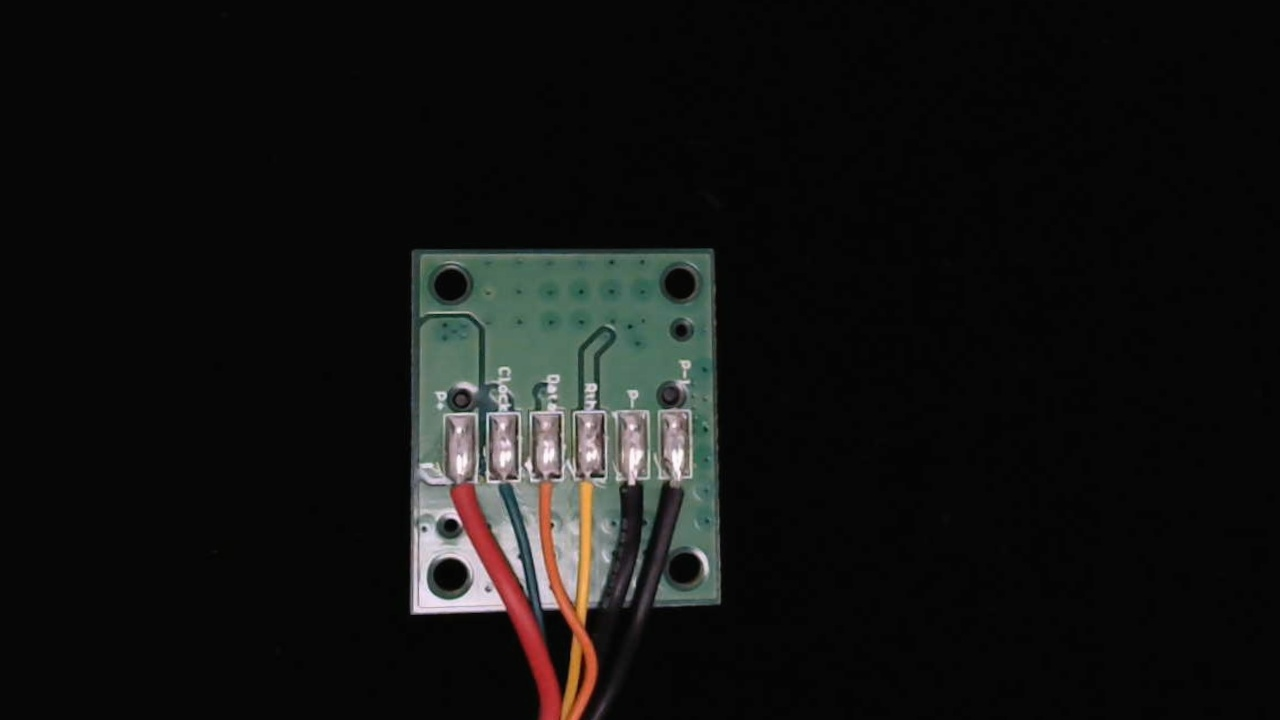Black: (613, 461, 652, 542)
Black1: (660, 459, 698, 534)
Green: (486, 459, 521, 525)
Orange: (529, 458, 567, 533)
Red: (442, 462, 483, 540)
Yellow: (570, 462, 609, 544)
